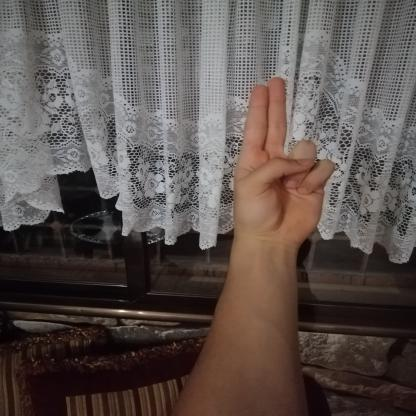TA: (220, 66, 342, 252)
